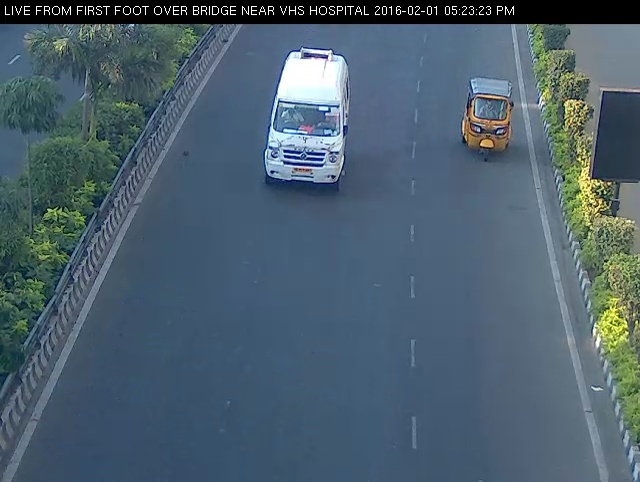Auto: (448, 62, 525, 172)
Bus: (257, 39, 356, 200)
